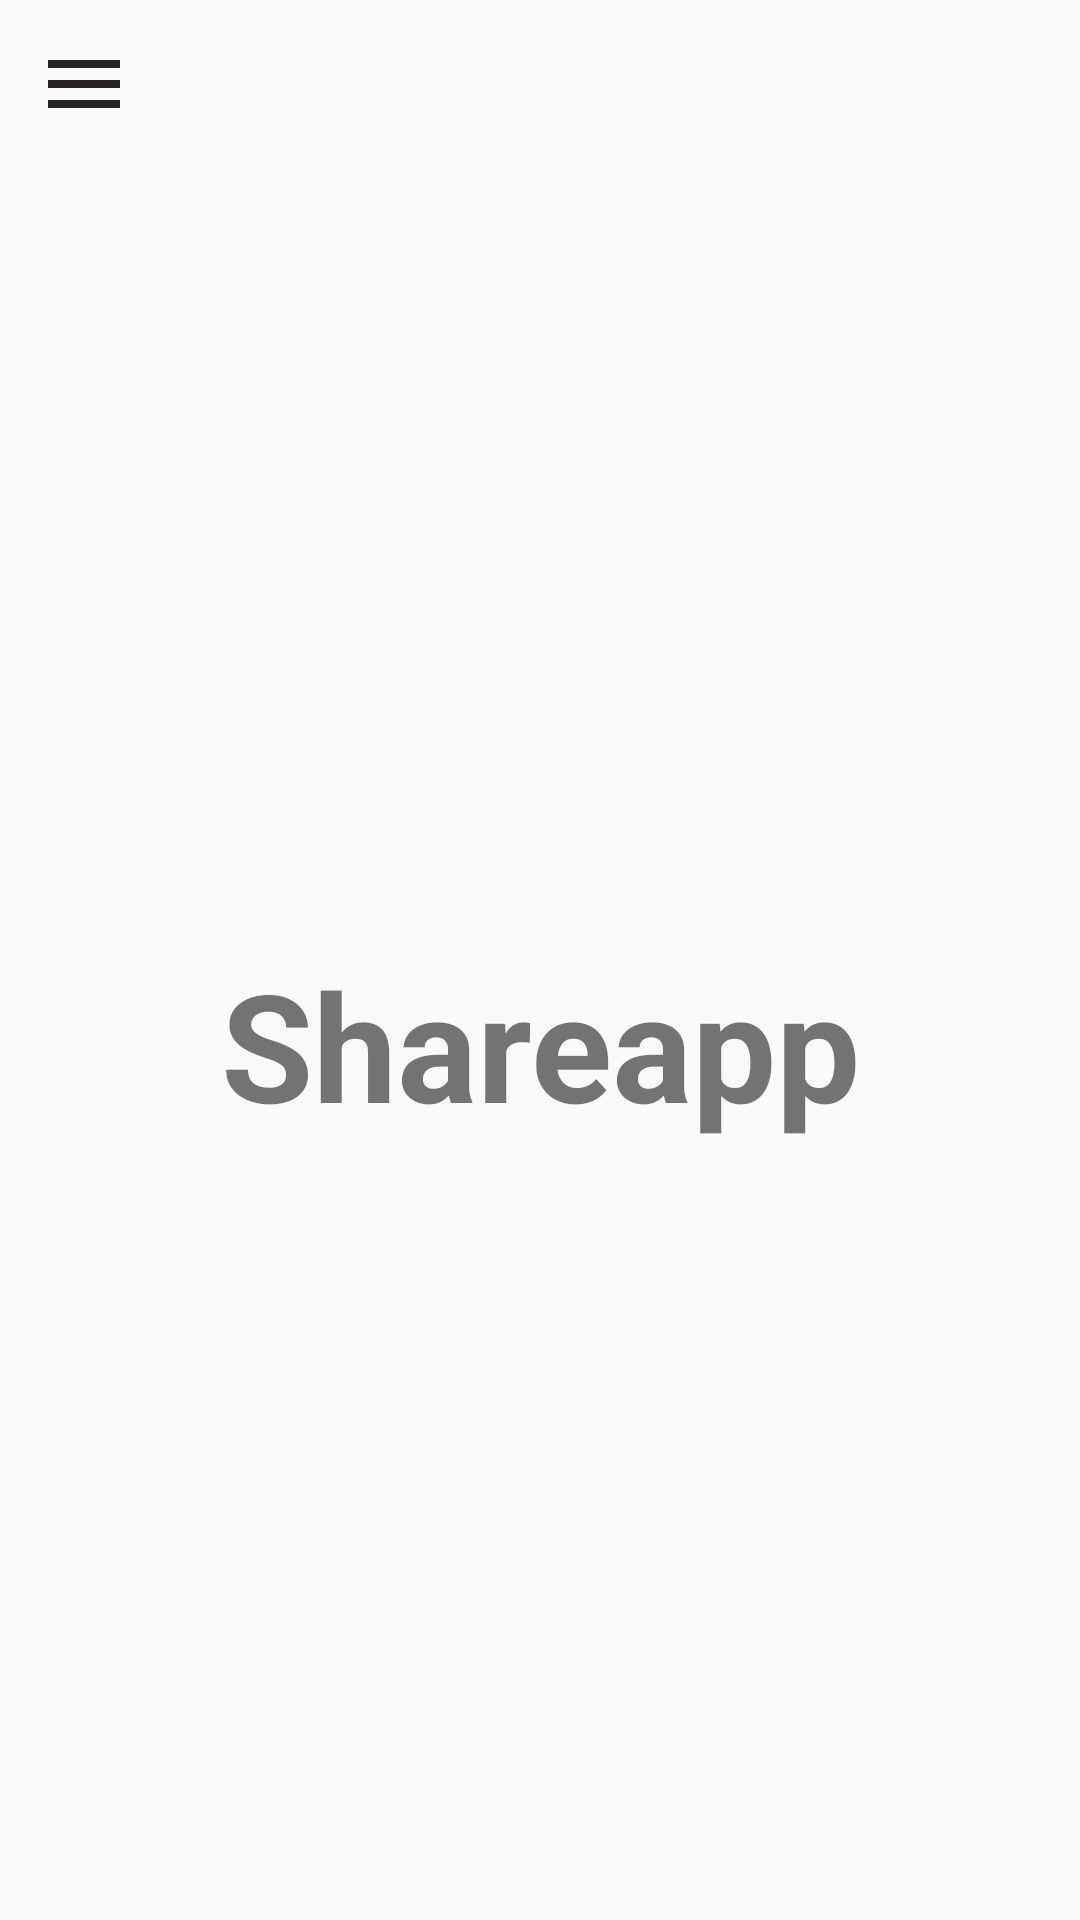

Where icons sit on this 1080x1920 app screen, as (x1, y1, x2, y2):
menu: (48, 60, 120, 108)
